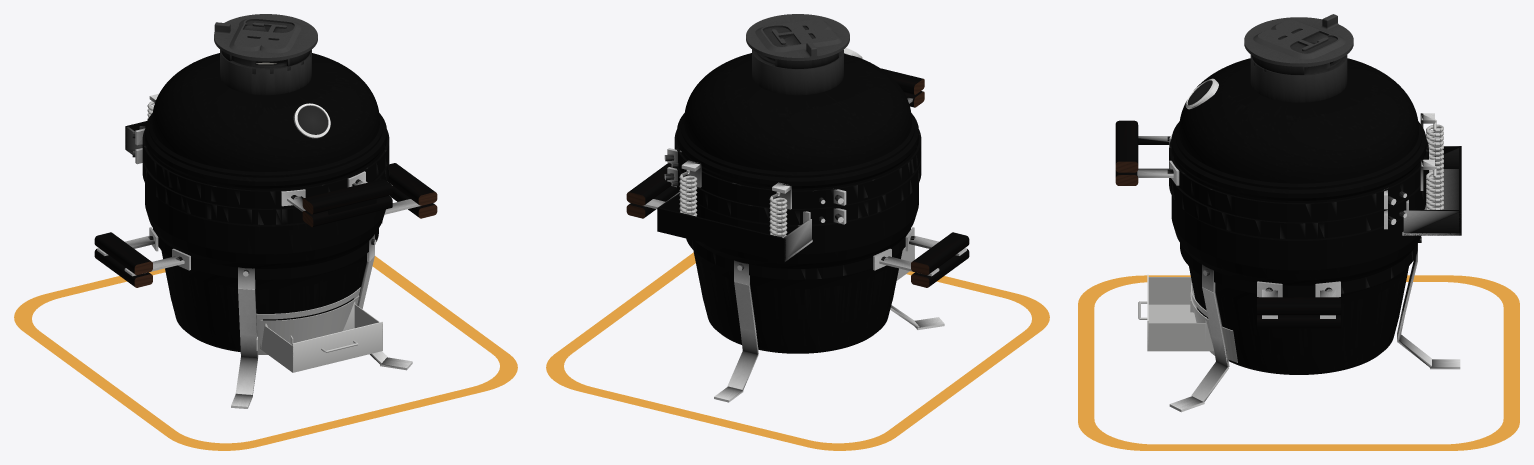
Rendered from grill-bill-pro-3-medium-16-v10.glb.
The picture shows the model from 3 angles, left to right: view 1: azimuth 30°, elevation 25°; view 2: azimuth 150°, elevation 25°; view 3: azimuth 270°, elevation 25°; orthographic projection. The views are drawn at different scales.
Visible parts, largest first — view 1: base, lid; view 2: base, lid; view 3: base, lid.
Part boxes in pixels (<box>): base: <box>14,101,517,450</box>; lid: <box>132,14,392,227</box>; base: <box>546,145,1049,450</box>; lid: <box>664,14,924,209</box>; base: <box>1078,119,1519,450</box>; lid: <box>1115,14,1434,219</box>.
Bounding box in the file's own units: 0.6441 × 0.5715 × 0.6853.
20 materials, 7 textured.
